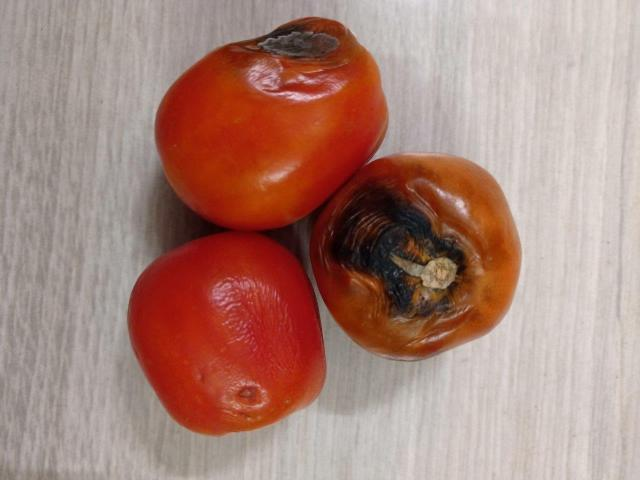defect: (149, 16, 391, 235), (303, 149, 525, 363), (124, 234, 329, 440)
